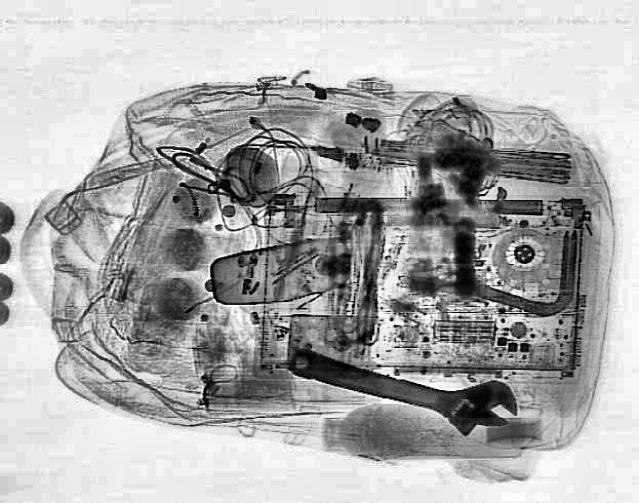Wrench: (278, 329, 530, 445)
